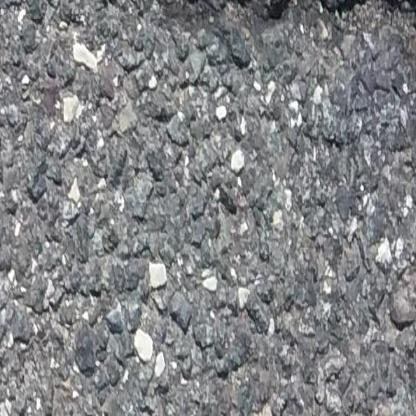Cracks: (109, 0, 416, 79)
